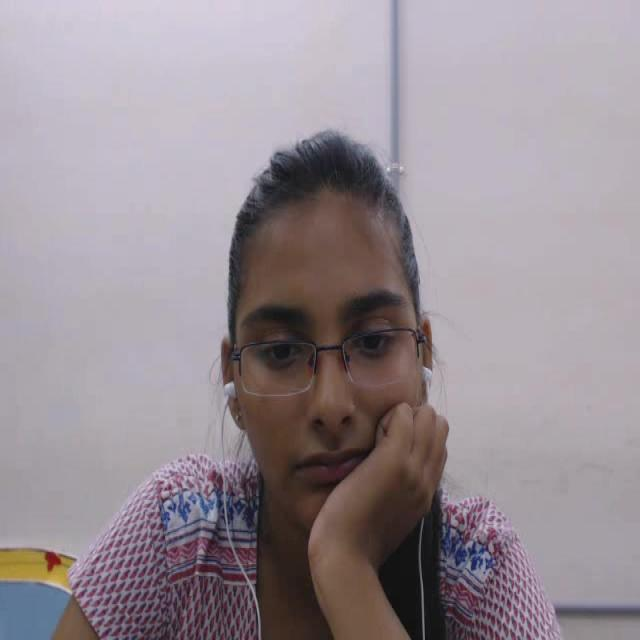Bored: (198, 130, 471, 574)
